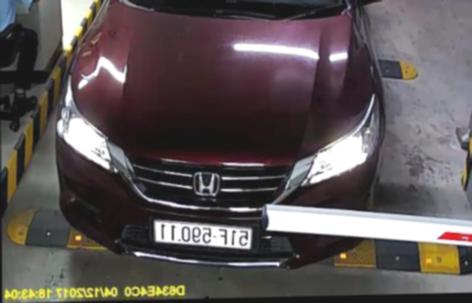License_Plate: (154, 220, 251, 251)
